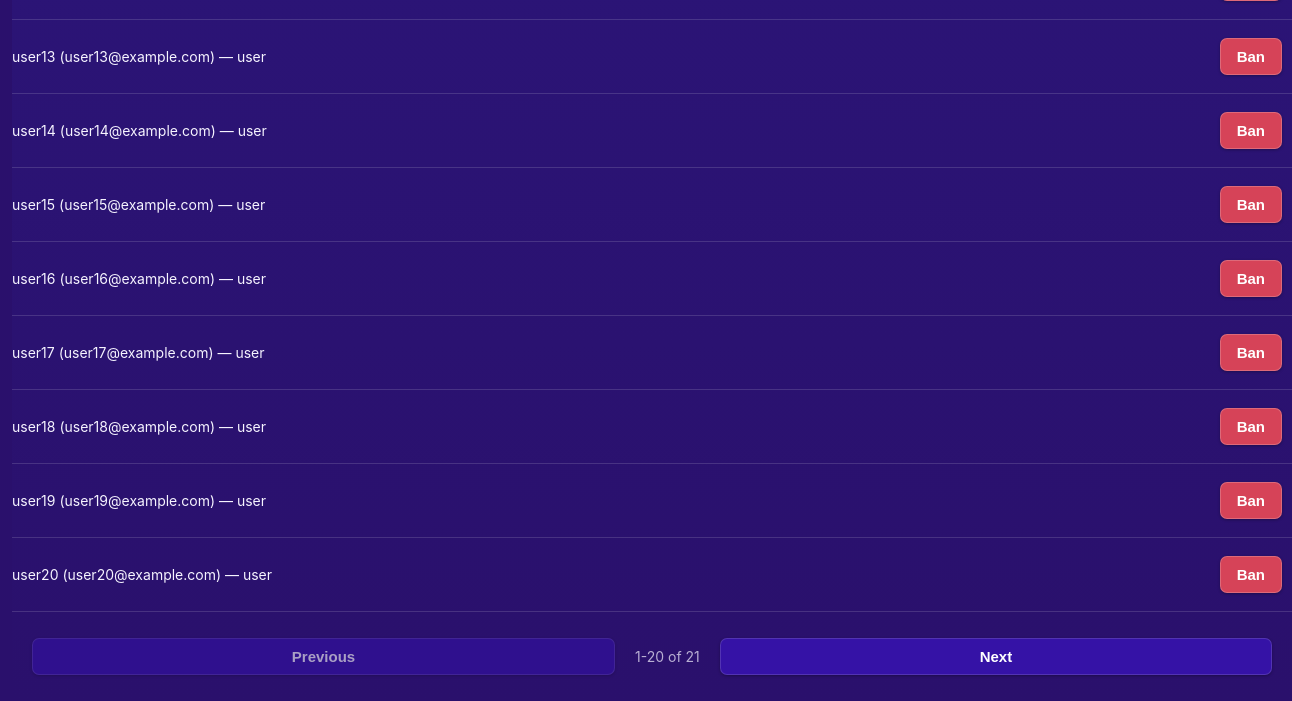
Test: ManageUsersPage › requests users with limit/offset and shows Previous/Next controls once there are more than one page
The image size is (1292, 701).
(page scrolled)
Expected: the text "user21@" is not shown
What coordinates should you click on to do the following:
click the button "Next"
I would click on:
 (996, 656)
Its box is [720, 638, 1272, 674].
(page scrolled)
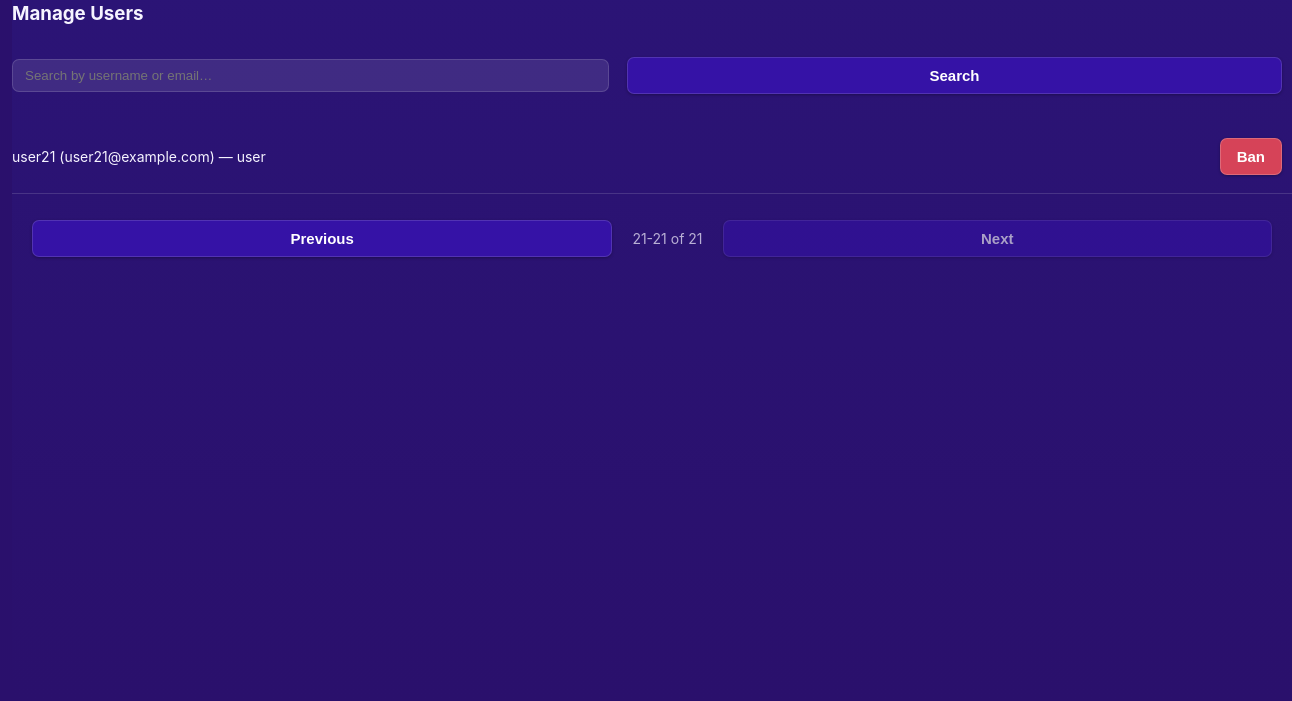
Expected: the text "user21 (user21@example.com) — user" is shown, [12, 148, 266, 164]
